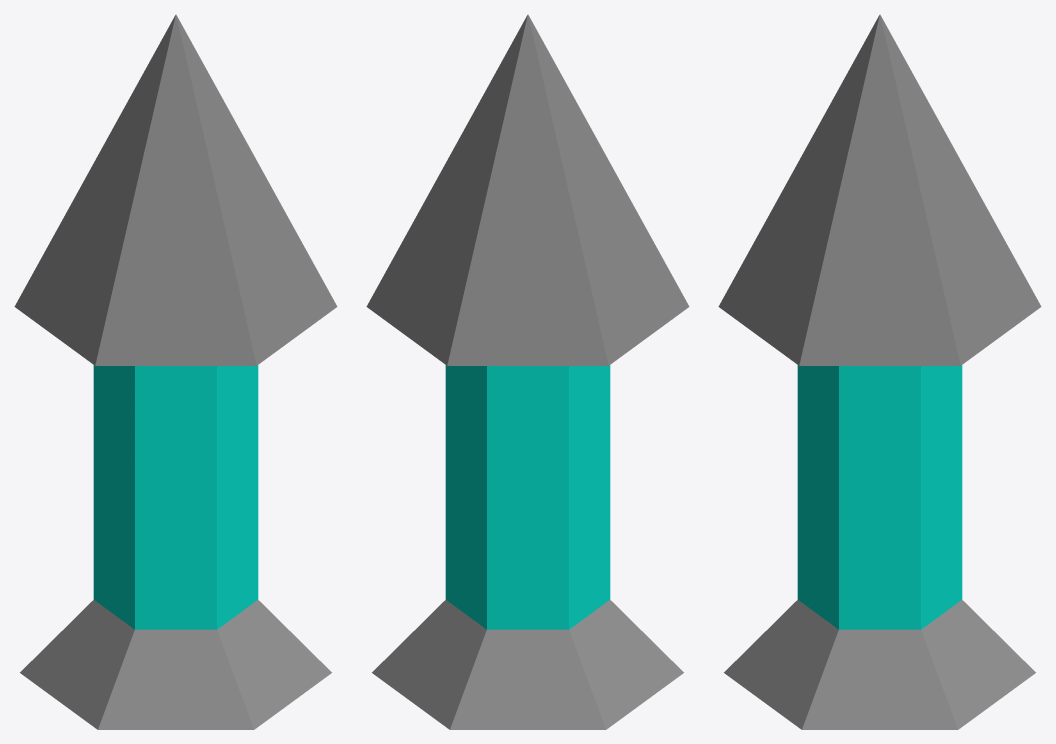
File: CyborgFacility_Generator_004.fbx
3 renders of one model, left to right at view 1: azimuth 30°, elevation 25°; view 2: azimuth 150°, elevation 25°; view 3: azimuth 270°, elevation 25°, orthographic.
Visible parts, largest first — view 1: Cone; view 2: Cone; view 3: Cone.
Part boxes in pixels (x1=…): Cone: x1=14, y1=14, x2=337, y2=729; Cone: x1=366, y1=14, x2=689, y2=729; Cone: x1=718, y1=14, x2=1041, y2=729.
Size of the model in its own units: 346 by 400 by 900.
Materials: 1 (1 with a texture image).
